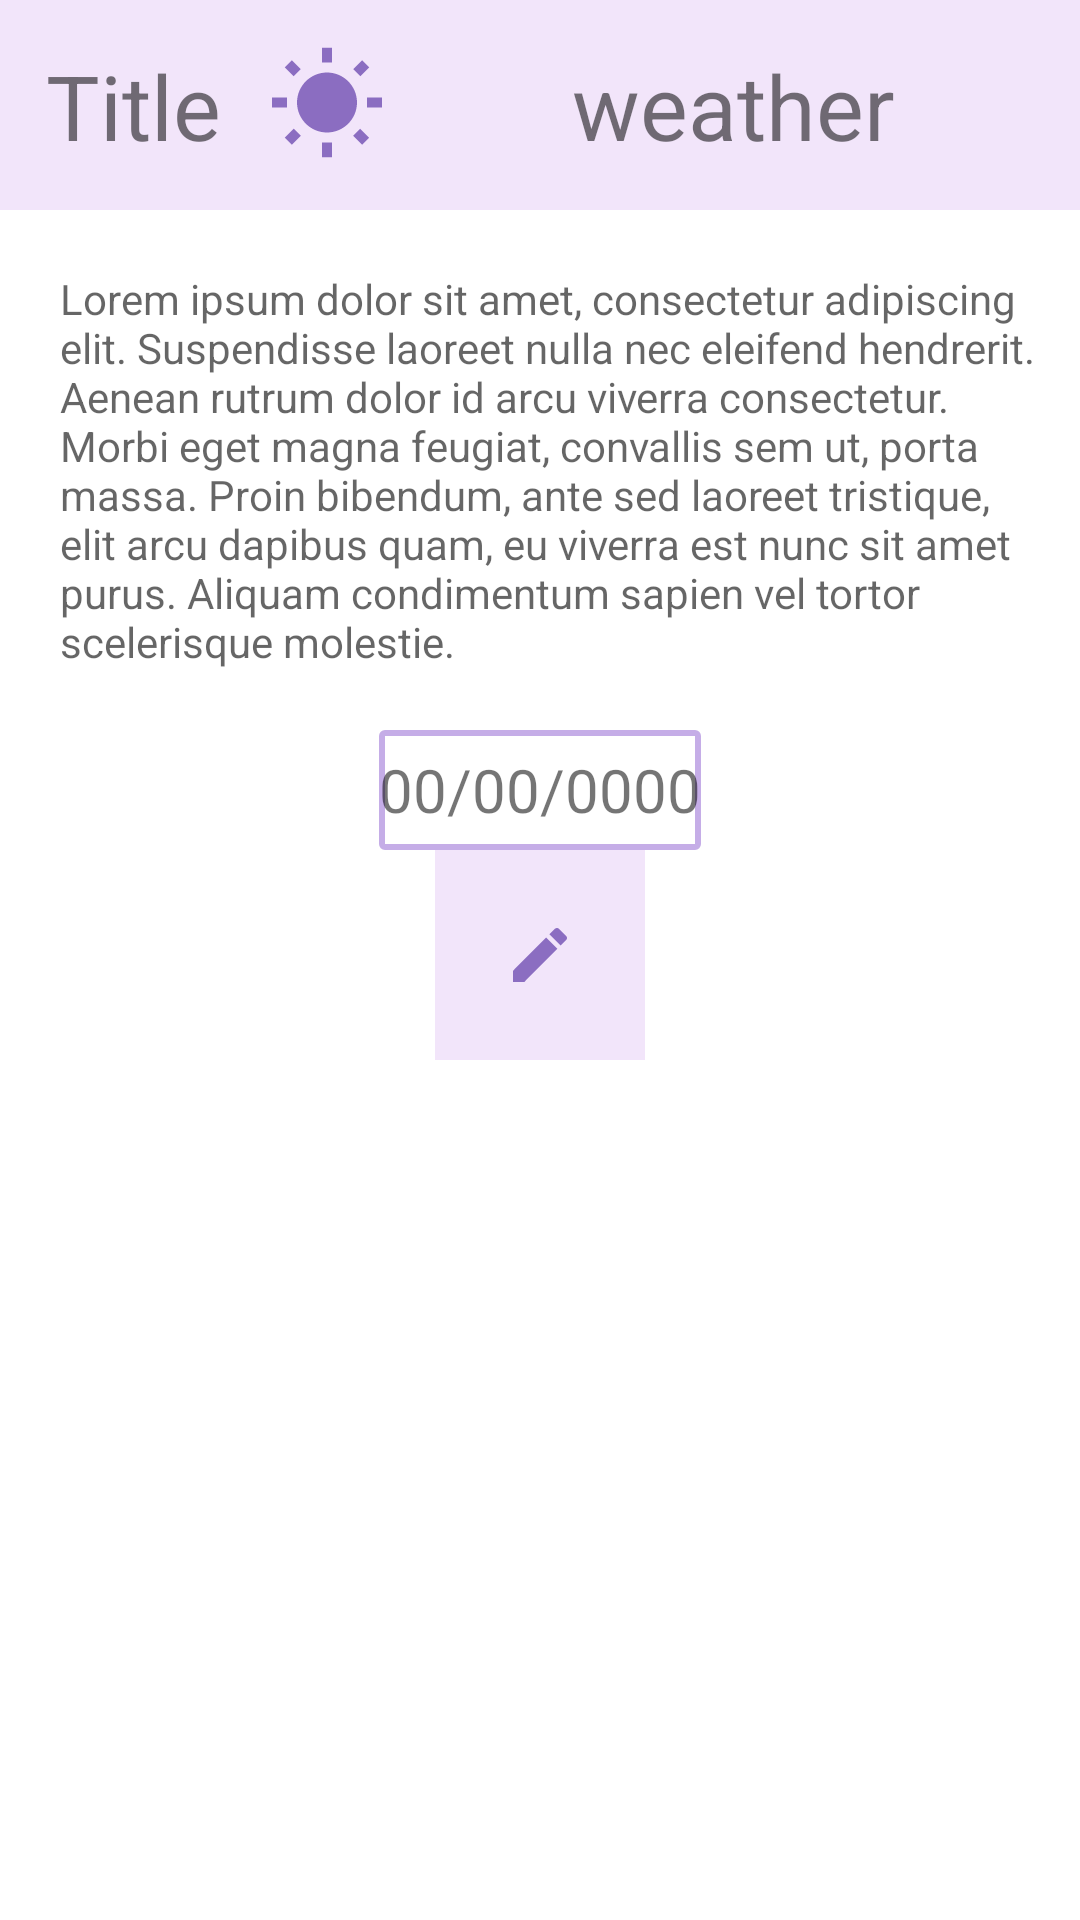

Point at icon controls on the screen. Image size 1080×1920, points as point (x, y).
edit: point (540, 955)
sunny: point (327, 102)
